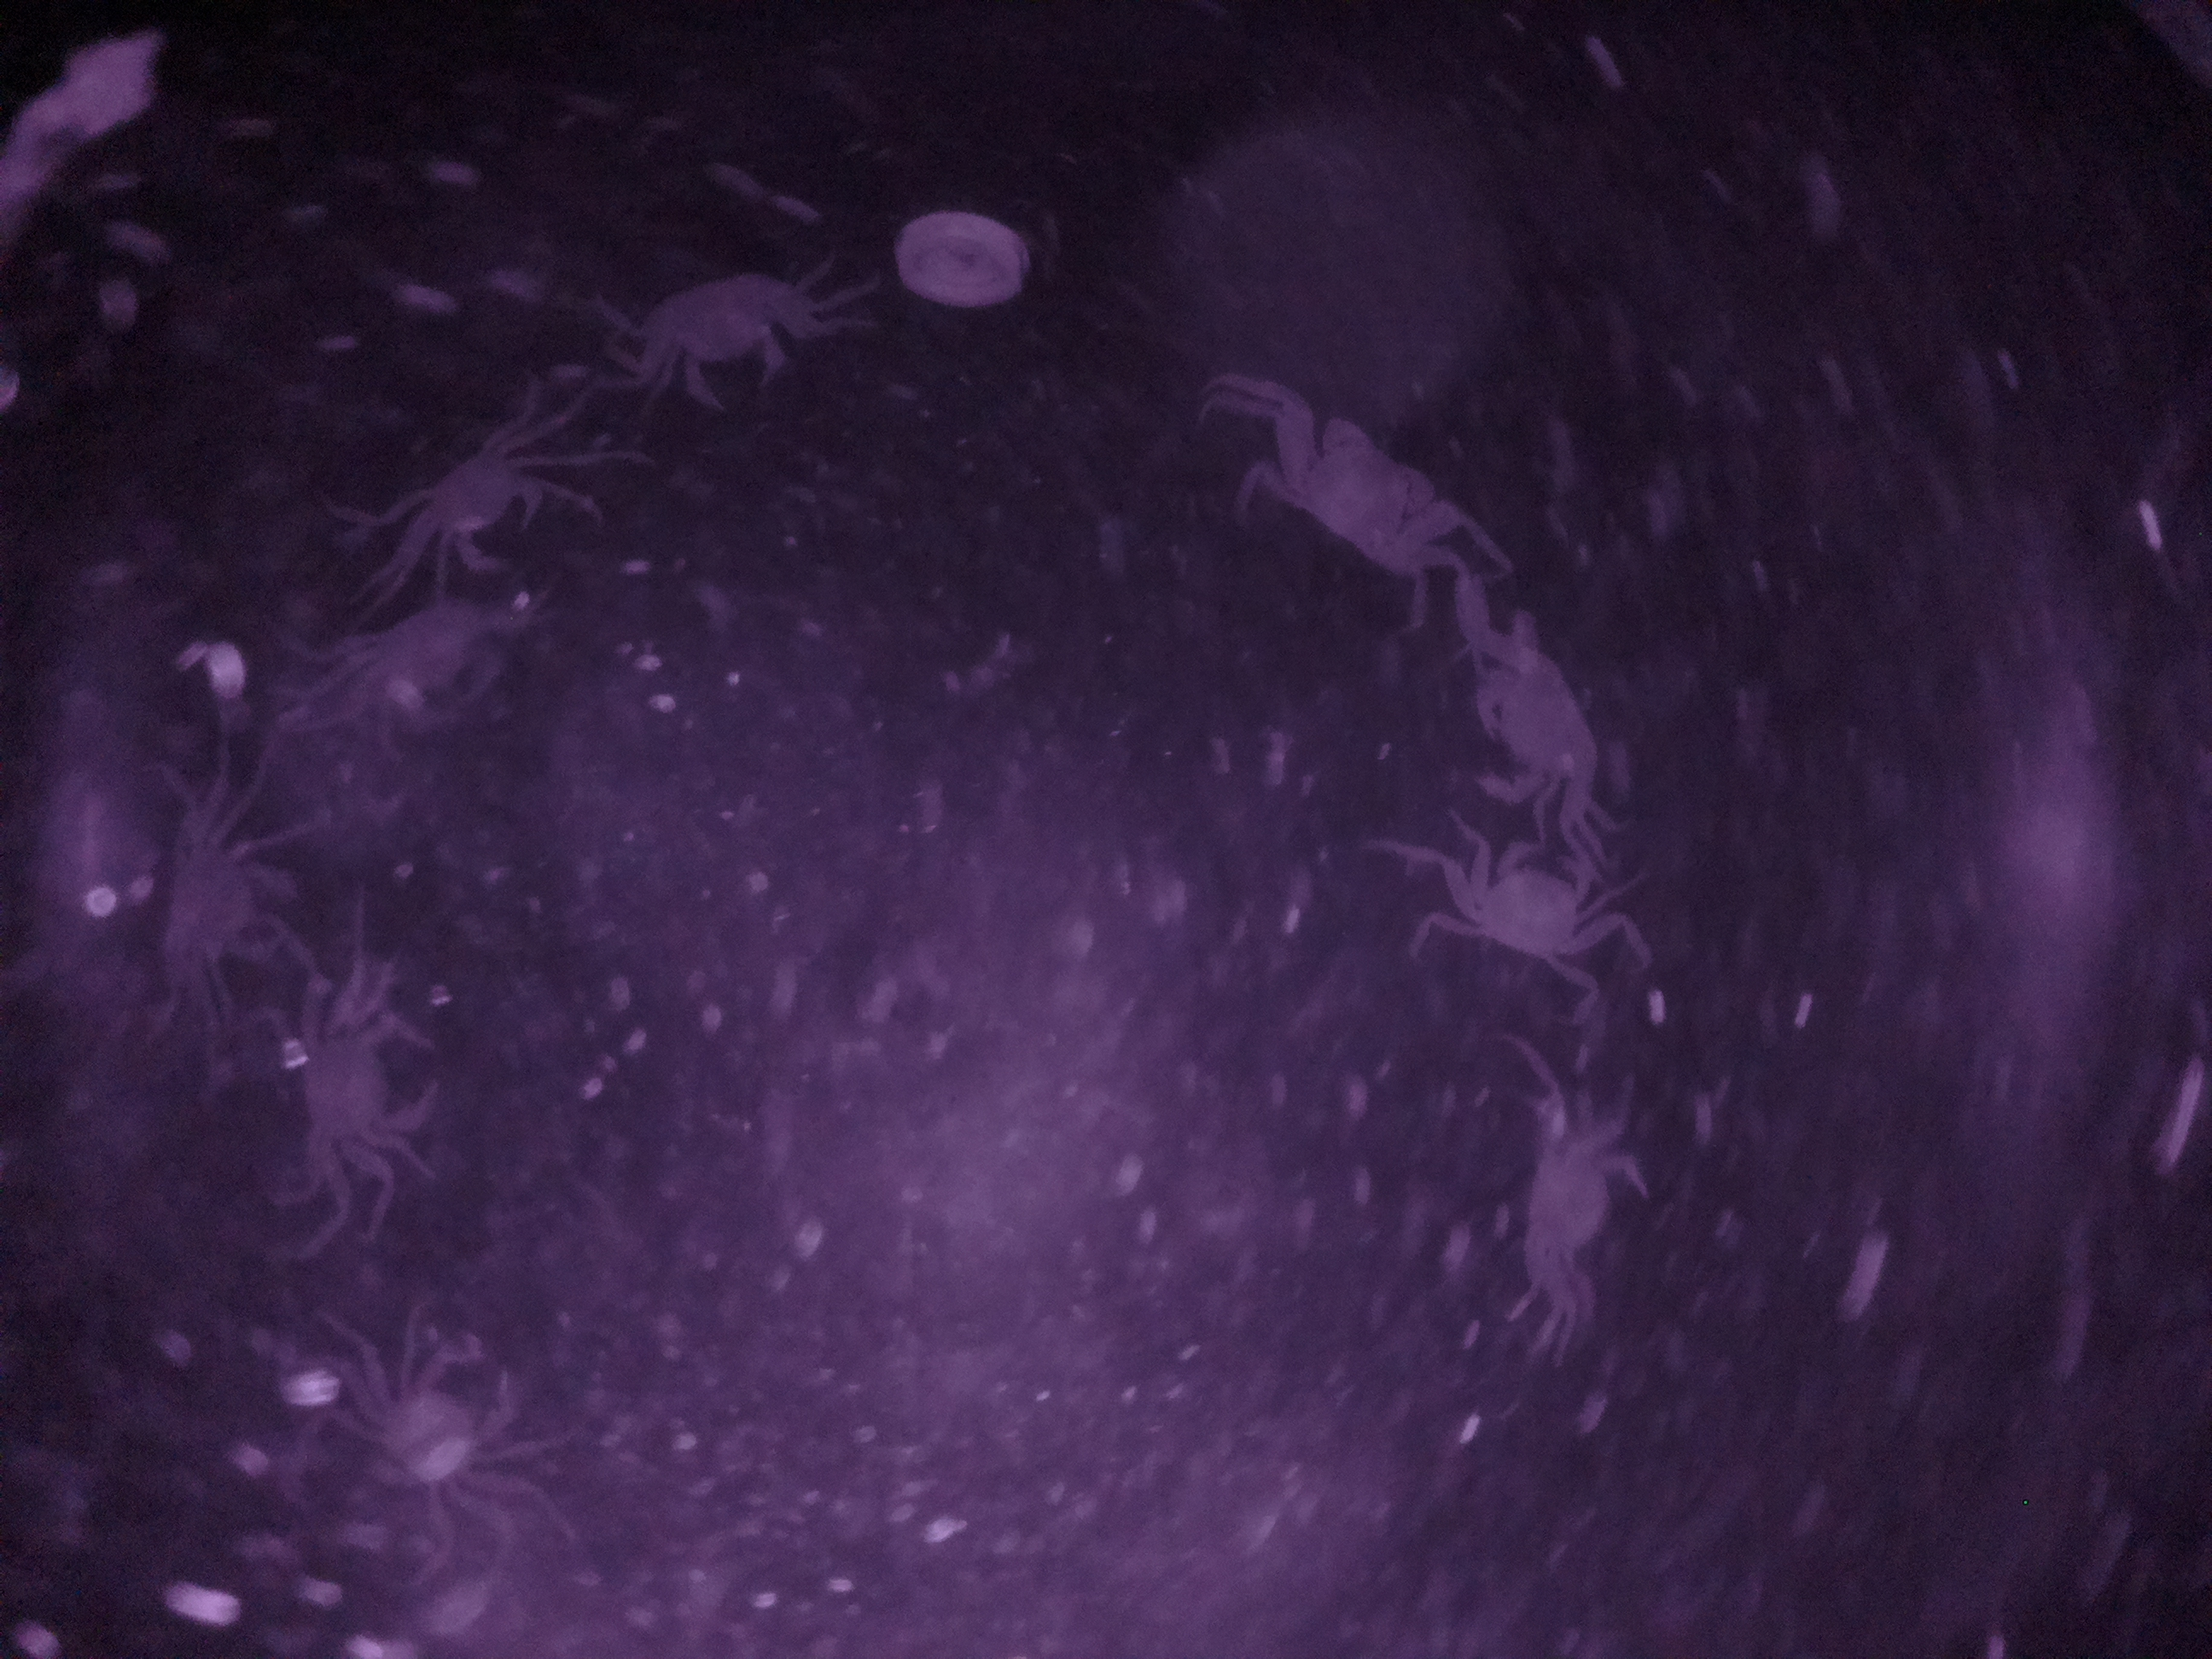Crab: (1233, 392, 1493, 594), (272, 964, 479, 1215), (622, 254, 852, 415), (1418, 831, 1648, 986), (383, 415, 585, 591)
